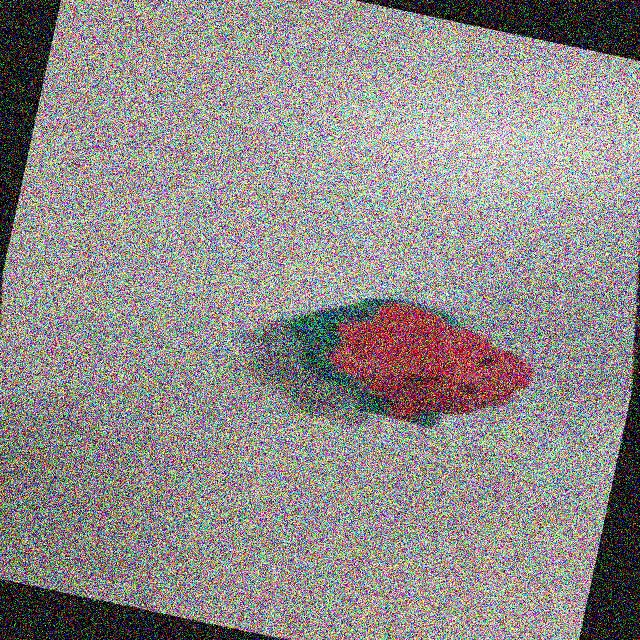House: (253, 262, 561, 454)
